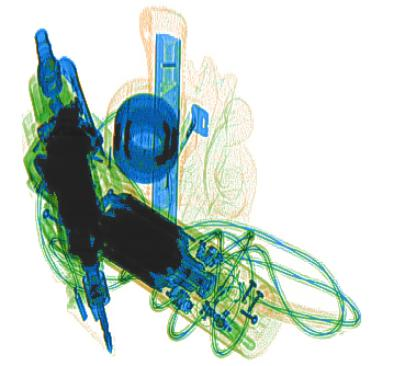knife: (138, 4, 190, 255)
